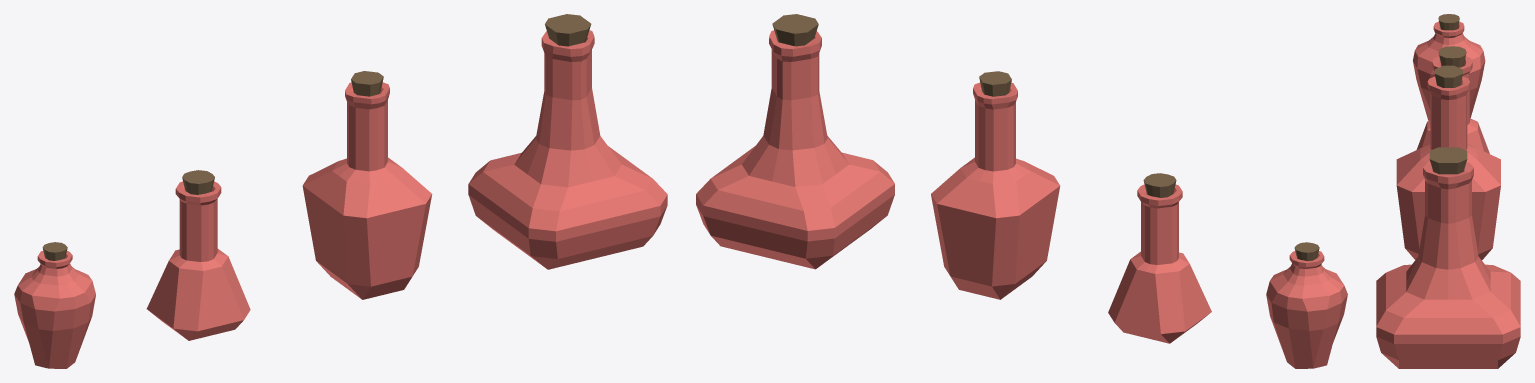
File: Bottiglie rosse piccole-grandi.fbx
3 renders of one model, left to right at view 1: azimuth 30°, elevation 25°; view 2: azimuth 150°, elevation 25°; view 3: azimuth 270°, elevation 25°, orthographic. The views are drawn at different scales.
Visible parts, largest first — view 1: Large_Red, Medium_Red, Small_Red, Vial_Red; view 2: Large_Red, Medium_Red, Small_Red, Vial_Red; view 3: Large_Red, Medium_Red, Vial_Red, Small_Red.
Boxes of the visible parts, x1,y1,x2,y2 form: Large_Red: (468,14,667,269); Medium_Red: (302,71,432,299); Small_Red: (146,170,250,340); Vial_Red: (14,242,95,368); Large_Red: (696,14,894,269); Medium_Red: (931,71,1060,299); Small_Red: (1108,173,1211,343); Vial_Red: (1266,242,1347,368); Large_Red: (1376,147,1520,368); Medium_Red: (1396,65,1500,260); Vial_Red: (1413,14,1485,120); Small_Red: (1416,46,1489,153).
Size of the model in its own units: 2656 by 881 by 598.
